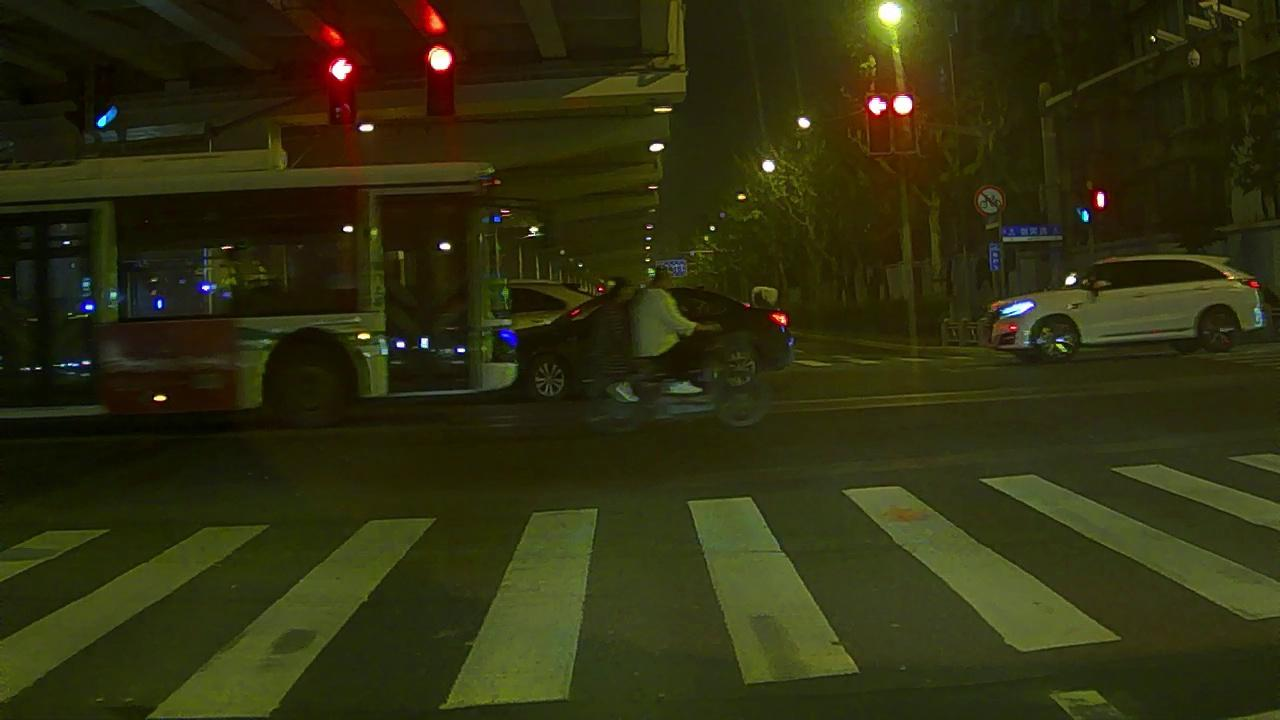traffic_light: (426, 45, 453, 114), (329, 57, 354, 122), (890, 94, 911, 154), (869, 95, 889, 152)
